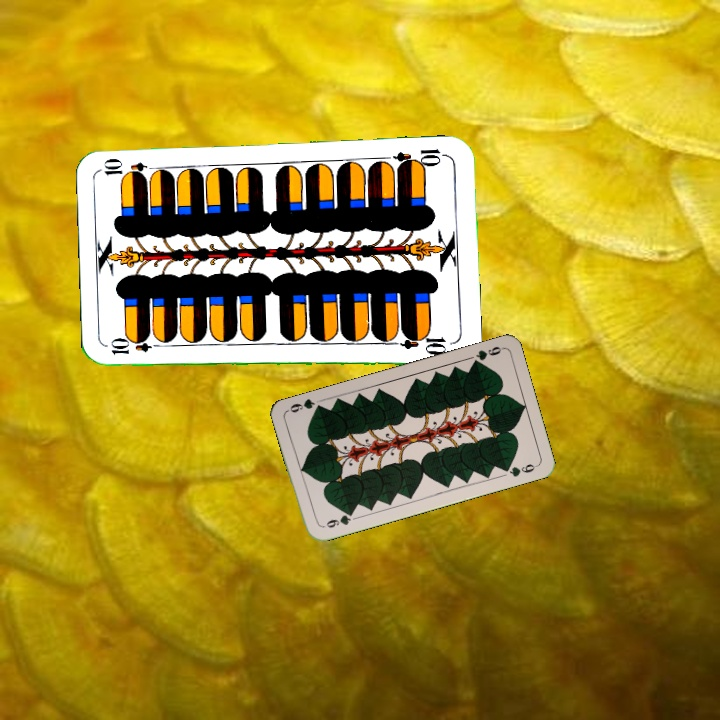E10: (390, 144, 450, 171), (106, 337, 165, 357)
G9: (468, 342, 505, 368), (318, 508, 358, 530)
